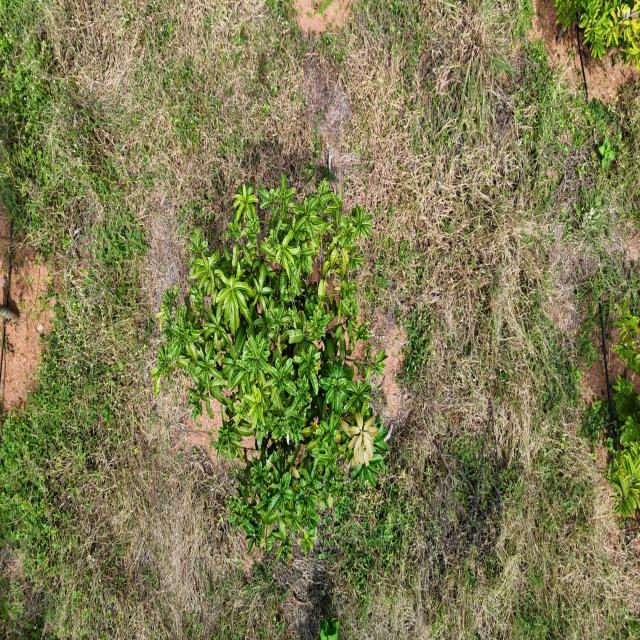mangoTree: (148, 173, 392, 564)
notMangoTree: (604, 280, 640, 526), (545, 0, 640, 73)
